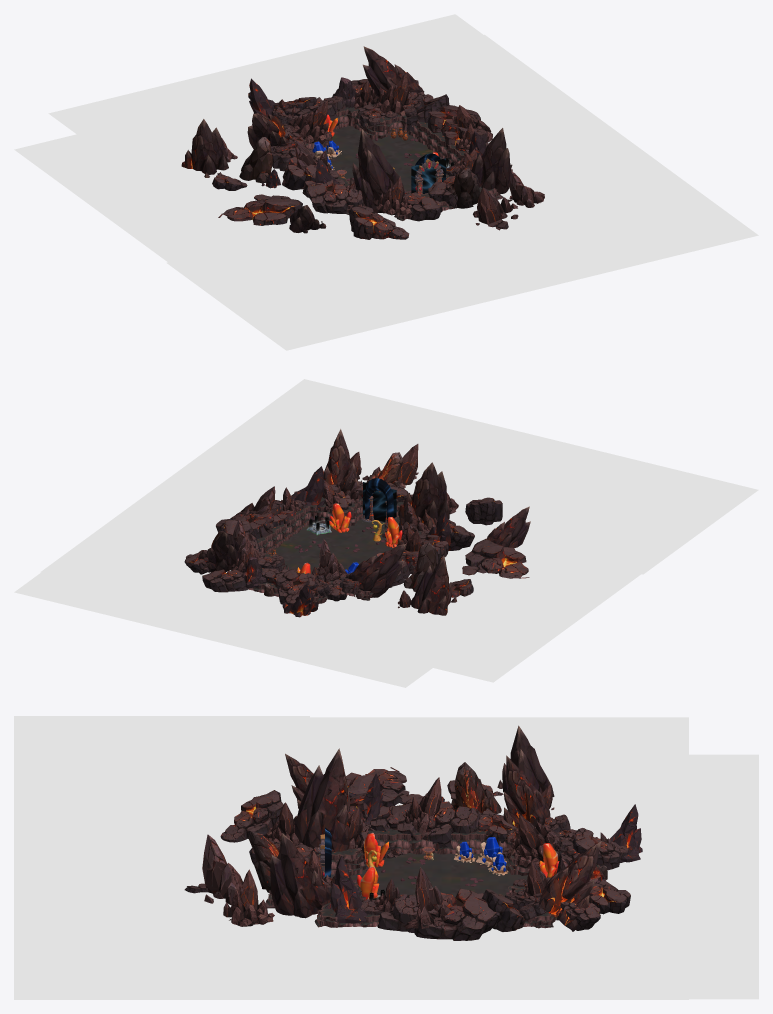
Rendered from LevelMap_1070801.glb.
3 renders of one model, top to bottom at view 1: azimuth 30°, elevation 25°; view 2: azimuth 150°, elevation 25°; view 3: azimuth 270°, elevation 25°, orthographic. The views are drawn at different scales.
Visible parts, largest first — view 1: EnvCavern_Detail__Lava_2__u1678, EnvCavern_Detail__Lava_1__u1909, EnvCavern_Detail__Lava_3__u1397, EnvCavern_Detail__Lava__u2314, LevelMap_1070801_Terrain__u2058, EnvCavern_Detail__Rock___2__u1191, EnvCavern_Detail__Rock___2__u1859, EnvCavern_Detail__Rock___2__u1581, EnvCavern_Detail__Rock___3__u1409, EnvCavern_Detail__Rock___3__u1520, EnvCavern_Detail__Rock___3__u2176, EnvCavern_Detail__Rock___2__u1467 (+17 smaller); view 2: EnvCavern_Detail__Lava_2__u1678, EnvCavern_Detail__Lava_3__u1397, EnvCavern_Detail__Lava_1__u1909, EnvCavern_Detail__Lava__u2314, LevelMap_1070801_Terrain__u2058, EnvCavern_Detail__Rock___2__u1191, EnvCavern_Detail__Rock___3__u1409, EnvCavern_Detail__Rock___2__u2077, EnvCavern_Detail__Rock___2__u1581, EnvCavern_Detail__Rock___2__u1859, EnvCavern_Detail__Rock___2__u1467, EnvCavern_Detail__Rock___2__u1393 (+14 smaller); view 3: EnvCavern_Detail__Lava_2__u1678, EnvCavern_Detail__Lava_3__u1397, EnvCavern_Detail__Lava__u2314, EnvCavern_Detail__Lava_1__u1909, LevelMap_1070801_Terrain__u2058, EnvCavern_Detail__Rock___2__u1191, EnvCavern_Detail__Rock___3__u1903, EnvCavern_Detail__Rock___2__u1859, EnvCavern_Detail__Rock___2__u1467, EnvCavern_Detail__Rock___3__u1561, EnvCavern_Detail__Rock___2__u2077, EnvCavern_Detail__Rock___3__u2176 (+28 smaller).
Boxes of the visible parts, <box> form: EnvCavern_Detail__Lava_2__u1678: <box>166,147,758,350</box>; EnvCavern_Detail__Lava_1__u1909: <box>14,99,387,278</box>; EnvCavern_Detail__Lava_3__u1397: <box>48,14,532,169</box>; EnvCavern_Detail__Lava__u2314: <box>341,34,660,196</box>; LevelMap_1070801_Terrain__u2058: <box>326,125,450,193</box>; EnvCavern_Detail__Rock___2__u1191: <box>349,128,404,213</box>; EnvCavern_Detail__Rock___2__u1859: <box>465,128,510,194</box>; EnvCavern_Detail__Rock___2__u1581: <box>181,119,228,177</box>; EnvCavern_Detail__Rock___3__u1409: <box>218,195,302,225</box>; EnvCavern_Detail__Rock___3__u1520: <box>306,179,363,213</box>; EnvCavern_Detail__Rock___3__u2176: <box>349,206,409,239</box>; EnvCavern_Detail__Rock___2__u1467: <box>363,46,424,96</box>; EnvCavern_Detail__Lava_2__u1678: <box>189,379,758,574</box>; EnvCavern_Detail__Lava_3__u1397: <box>14,546,479,687</box>; EnvCavern_Detail__Lava_1__u1909: <box>293,509,662,682</box>; EnvCavern_Detail__Lava__u2314: <box>40,448,313,606</box>; LevelMap_1070801_Terrain__u2058: <box>271,516,396,573</box>; EnvCavern_Detail__Rock___2__u1191: <box>398,462,449,528</box>; EnvCavern_Detail__Rock___3__u1409: <box>465,539,529,578</box>; EnvCavern_Detail__Rock___2__u2077: <box>348,544,405,597</box>; EnvCavern_Detail__Rock___2__u1581: <box>411,556,456,615</box>; EnvCavern_Detail__Rock___2__u1859: <box>322,429,362,512</box>; EnvCavern_Detail__Rock___2__u1467: <box>199,531,240,572</box>; EnvCavern_Detail__Rock___2__u1393: <box>486,506,530,547</box>; EnvCavern_Detail__Lava_2__u1678: <box>14,716,309,999</box>; EnvCavern_Detail__Lava_3__u1397: <box>567,754,758,999</box>; EnvCavern_Detail__Lava__u2314: <box>255,911,688,999</box>; EnvCavern_Detail__Lava_1__u1909: <box>255,717,688,838</box>; LevelMap_1070801_Terrain__u2058: <box>331,853,527,898</box>; EnvCavern_Detail__Rock___2__u1191: <box>294,748,354,851</box>; EnvCavern_Detail__Rock___3__u1903: <box>392,888,499,940</box>; EnvCavern_Detail__Rock___2__u1859: <box>270,833,330,918</box>; EnvCavern_Detail__Rock___2__u1467: <box>538,841,601,931</box>; EnvCavern_Detail__Rock___3__u1561: <box>390,796,480,848</box>; EnvCavern_Detail__Rock___2__u2077: <box>503,755,550,833</box>; EnvCavern_Detail__Rock___3__u2176: <box>220,790,283,842</box>.
Size of the model in its own units: 55.43 by 12.77 by 61.48.
27 materials, 26 textured.
